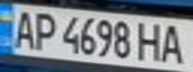4: (57, 12, 81, 54)
6: (78, 15, 96, 56)
8: (112, 18, 136, 60)
9: (93, 16, 115, 57)
A: (157, 21, 190, 64), (9, 7, 39, 50)
H: (136, 19, 166, 62)
P: (30, 9, 60, 51)
